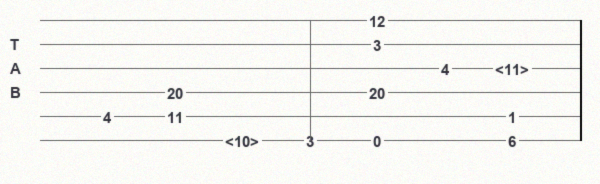0: (373, 133, 385, 148)
1: (508, 109, 520, 124)
11: (167, 109, 187, 124)
12: (369, 13, 389, 28)
20: (167, 85, 187, 100), (369, 85, 389, 100)
3: (306, 133, 318, 148), (373, 37, 385, 52)
4: (103, 109, 115, 124), (441, 61, 453, 76)
6: (508, 133, 520, 148)
harmonic: (225, 133, 263, 148), (495, 61, 533, 76)
